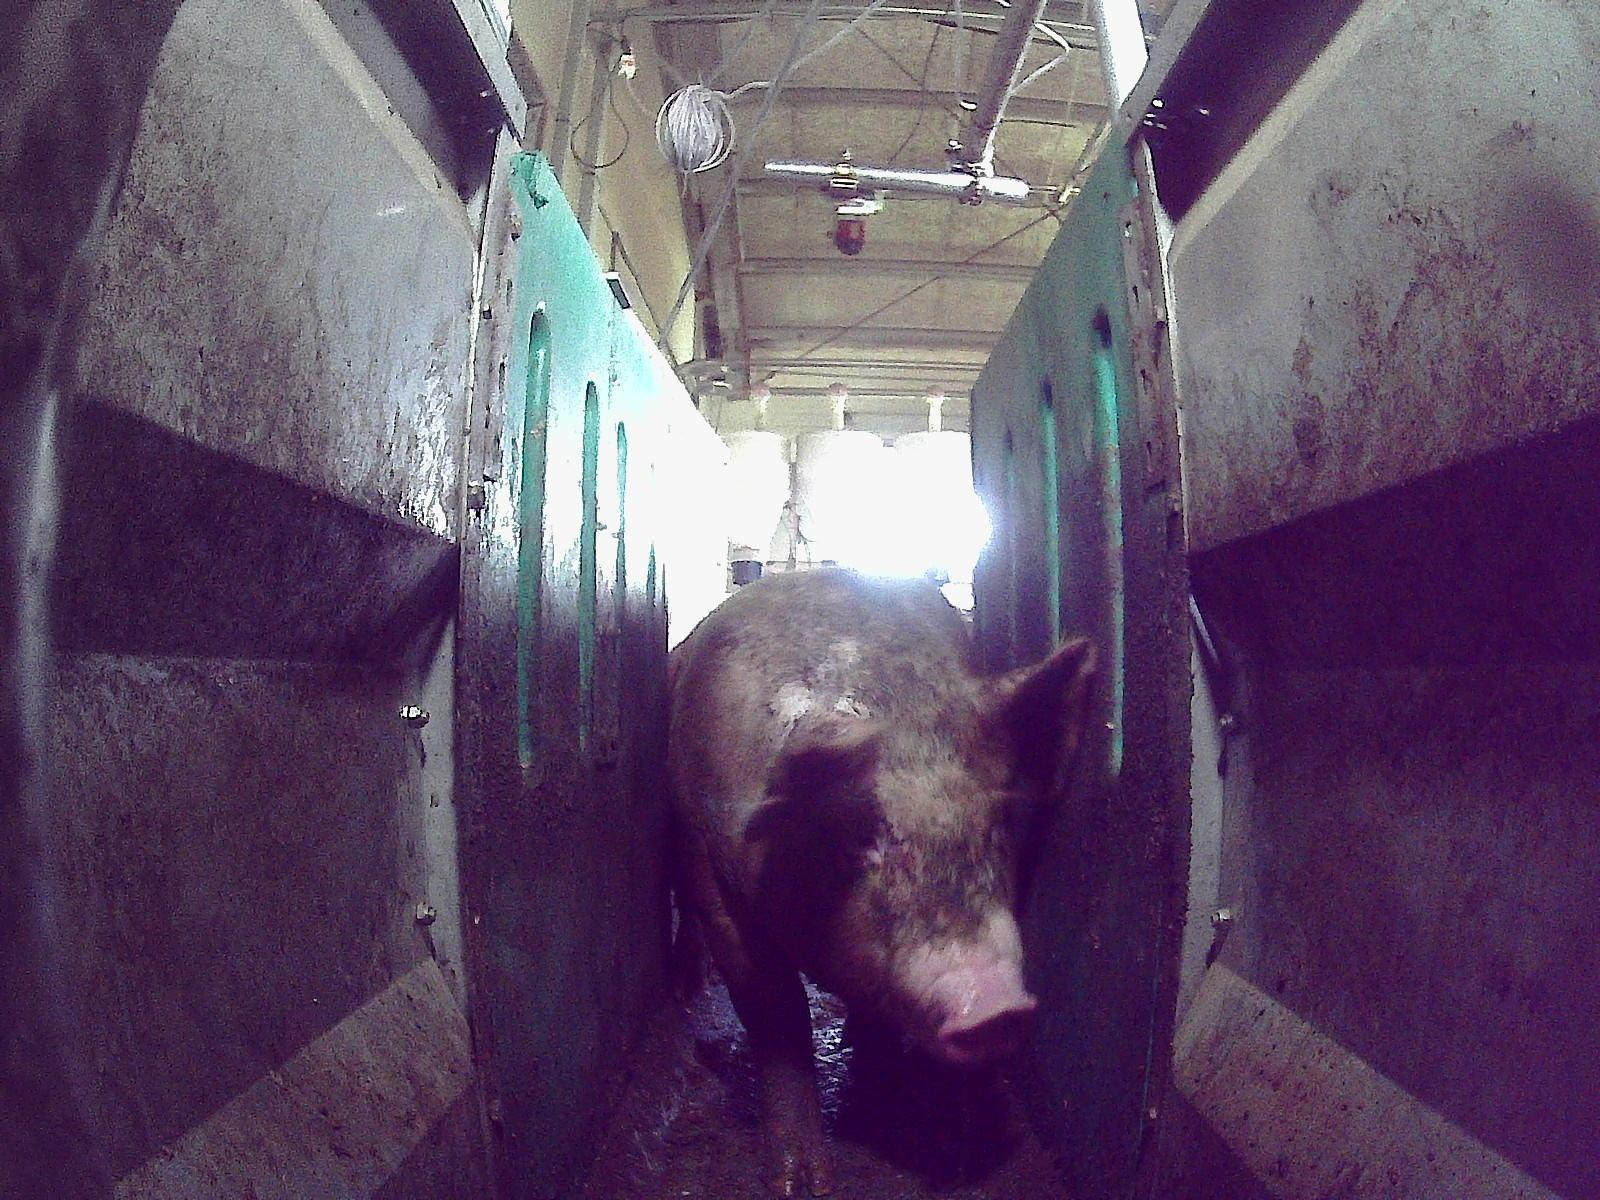Face: (802, 740, 1042, 1057)
